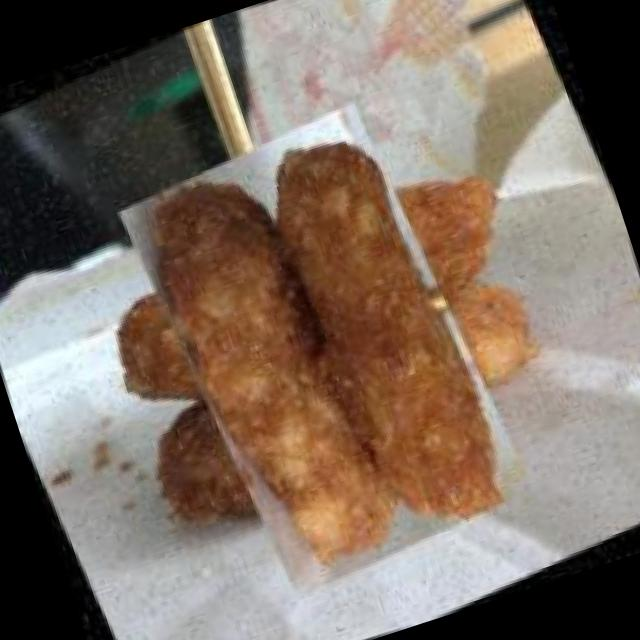triangle_hash_brown: (72, 96, 582, 606)
